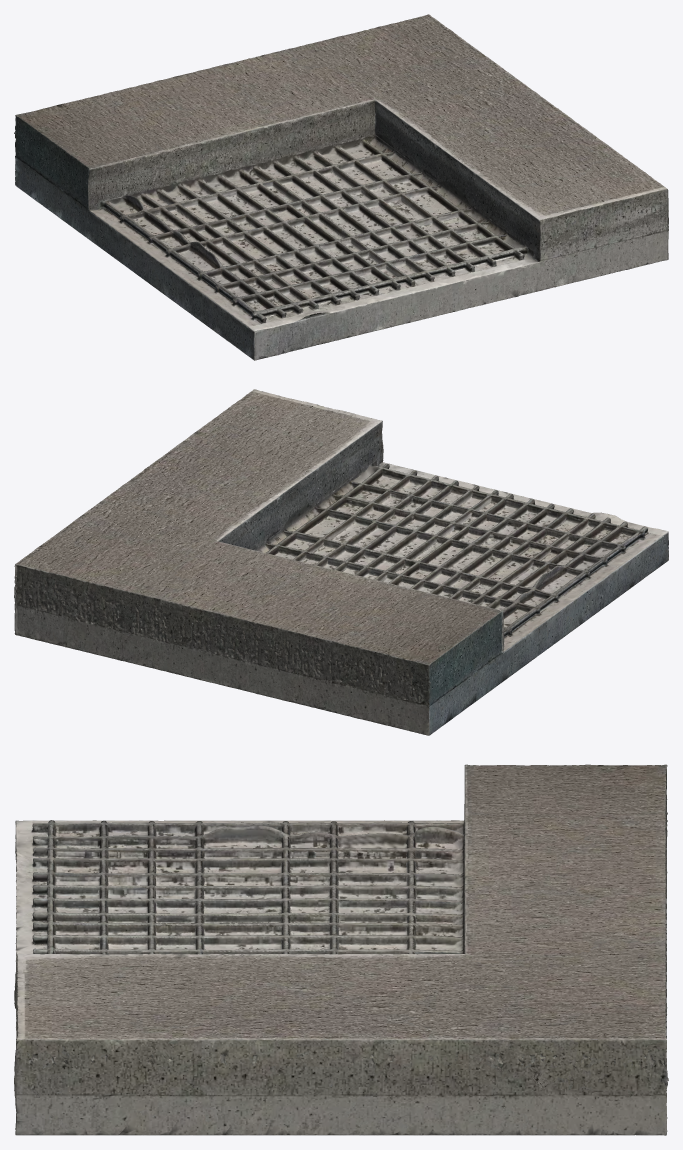
File: Concrete.glb
3 renders of one model, top to bottom at view 1: azimuth 30°, elevation 25°; view 2: azimuth 150°, elevation 25°; view 3: azimuth 270°, elevation 25°, orthographic. The views are drawn at different scales.
Visible parts, largest first — view 1: texture_mapping; view 2: texture_mapping; view 3: texture_mapping.
Boxes of the visible parts, <box> form: texture_mapping: <box>14,14,668,360</box>; texture_mapping: <box>14,389,668,735</box>; texture_mapping: <box>14,764,668,1135</box>.
Size of the model in its own units: 1 by 0.1648 by 1.01.
1 material, 1 textured.
